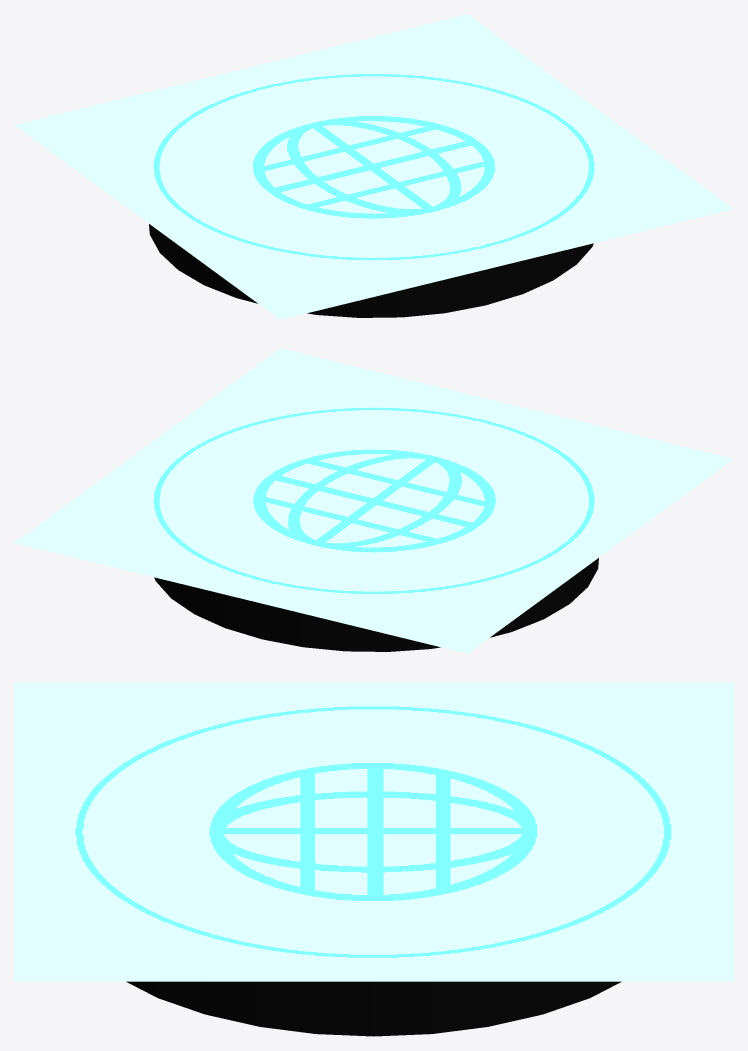
Rendered from portfolioicon.glb.
3 views of the same model, one above another, from view 1: azimuth 30°, elevation 25°; view 2: azimuth 150°, elevation 25°; view 3: azimuth 270°, elevation 25° (orthographic). The views are drawn at different scales.
Parts seen in each view (by area): view 1: ARbusinesscardicons-05, Cylinder; view 2: ARbusinesscardicons-05, Cylinder; view 3: ARbusinesscardicons-05, Cylinder.
Boxes of the visible parts, x1,y1,x2,y2 form: ARbusinesscardicons-05: [14, 14, 733, 319]; Cylinder: [149, 224, 593, 317]; ARbusinesscardicons-05: [14, 348, 733, 653]; Cylinder: [154, 558, 598, 651]; ARbusinesscardicons-05: [14, 682, 733, 981]; Cylinder: [126, 981, 621, 1036].
Bounding box in the file's own units: 2.32 × 0.296 × 2.36.
2 materials, 1 textured.
